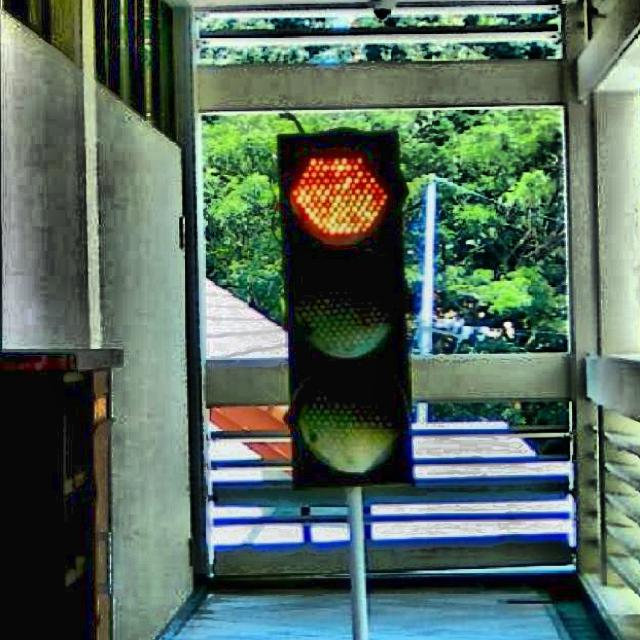red: (272, 128, 408, 486)
